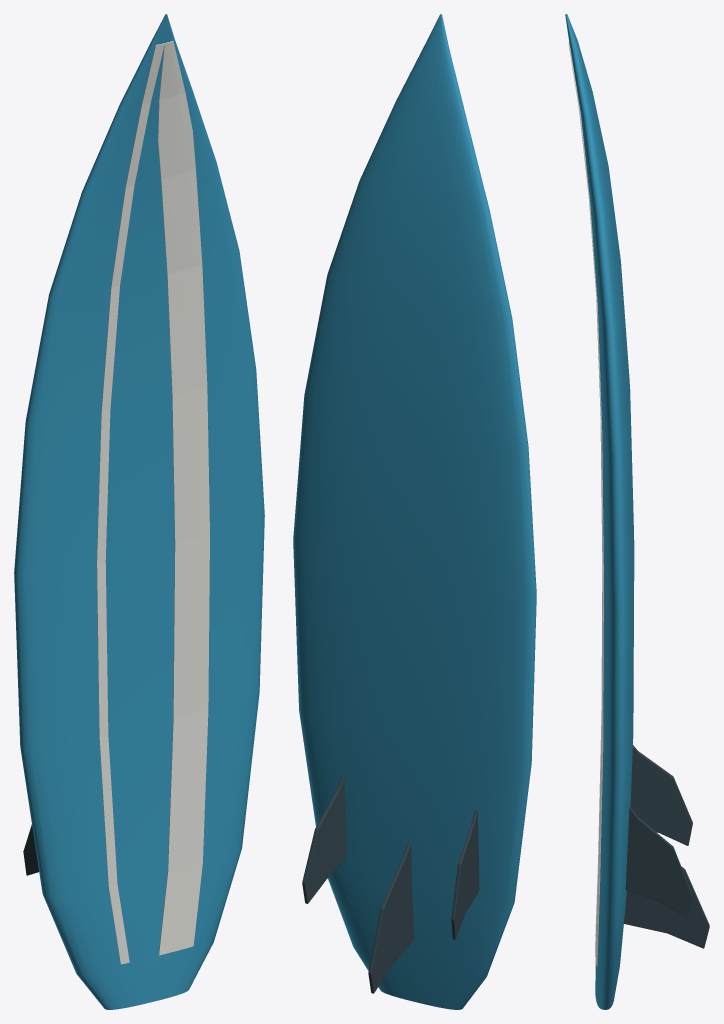
Rendered from surfboard_shortboard.glb.
3 views of the same model, side by side, from view 1: azimuth 30°, elevation 25°; view 2: azimuth 150°, elevation 25°; view 3: azimuth 270°, elevation 25° (orthographic). The views are drawn at different scales.
Parts seen in each view (by area): view 1: Shortboard_Closed_Rocker_Body, Shortboard_Offset_White_Panel, Shortboard_Thin_White_Stripe; view 2: Shortboard_Closed_Rocker_Body, Shortboard_Centre_Fin, Shortboard_Side_Fin.001, Shortboard_Side_Fin; view 3: Shortboard_Closed_Rocker_Body, Shortboard_Side_Fin.001, Shortboard_Side_Fin, Shortboard_Centre_Fin, Shortboard_Offset_White_Panel.
Boxes of the visible parts, box(x1,y1,x2,y2) form: Shortboard_Closed_Rocker_Body: box(14, 14, 264, 1009); Shortboard_Offset_White_Panel: box(158, 41, 209, 955); Shortboard_Thin_White_Stripe: box(96, 43, 164, 964); Shortboard_Closed_Rocker_Body: box(293, 14, 536, 1009); Shortboard_Centre_Fin: box(368, 842, 414, 993); Shortboard_Side_Fin.001: box(302, 776, 346, 903); Shortboard_Side_Fin: box(451, 809, 479, 939); Shortboard_Closed_Rocker_Body: box(565, 14, 634, 1009); Shortboard_Side_Fin.001: box(625, 807, 692, 918); Shortboard_Side_Fin: box(630, 745, 692, 845); Shortboard_Centre_Fin: box(624, 866, 709, 948); Shortboard_Offset_White_Panel: box(568, 44, 603, 966).
Bounding box in the file's own units: 0.524 × 2 × 0.2686.
